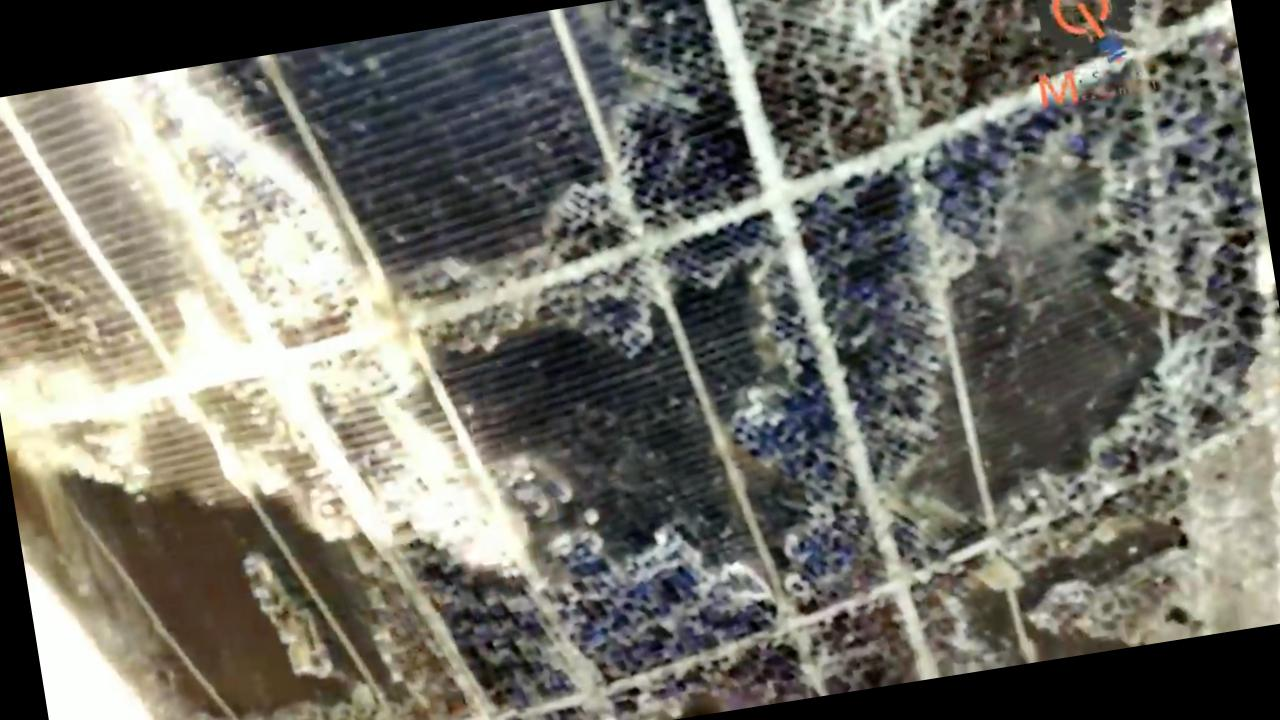Crack: (565, 0, 1002, 297), (739, 281, 981, 588), (570, 525, 779, 694)
